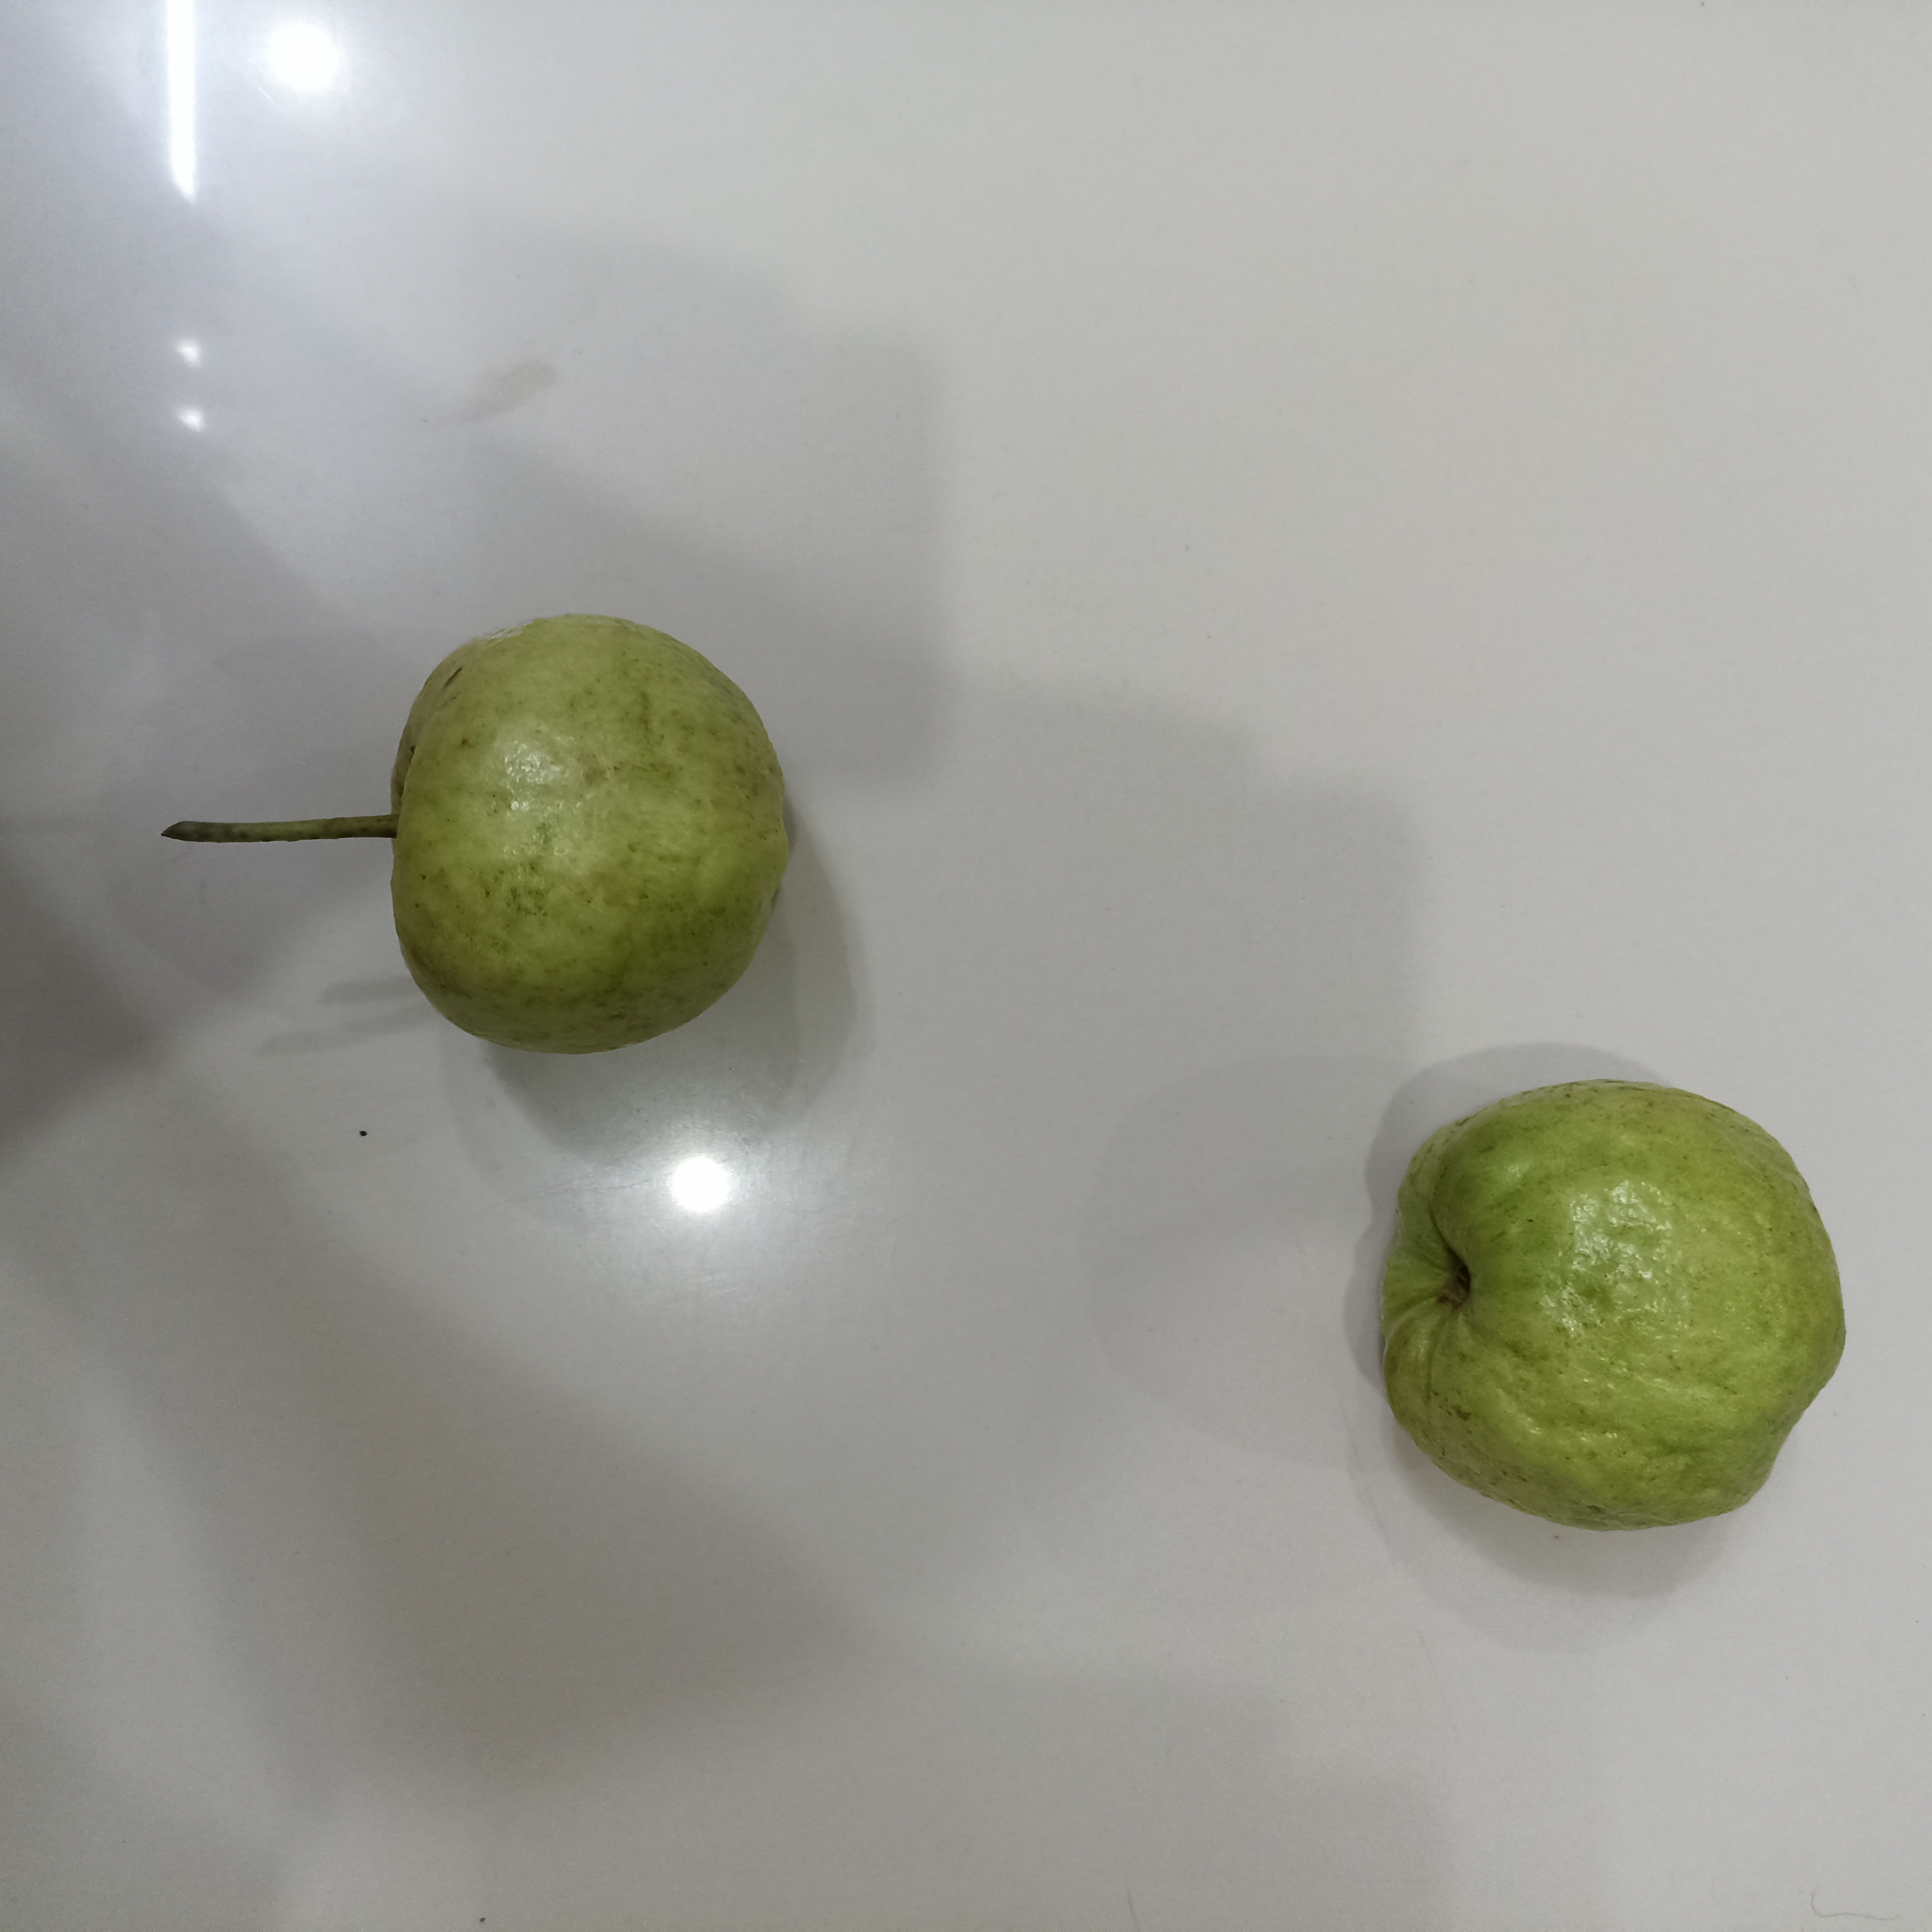Oi: (1375, 1077, 1849, 1534), (380, 614, 793, 1056)
